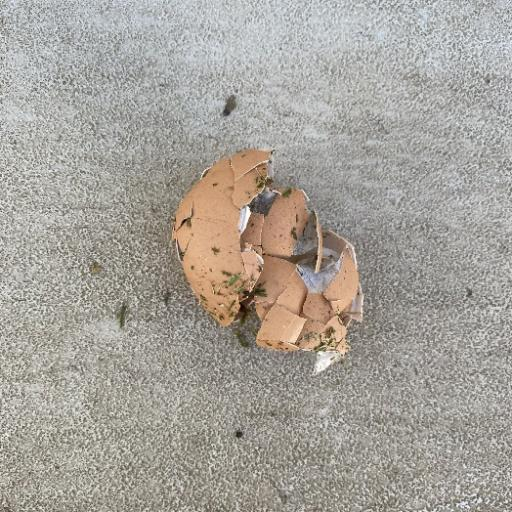Waste: (170, 147, 363, 371)
